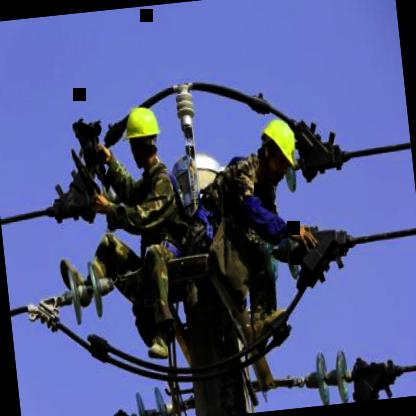helmet: (252, 113, 303, 185), (119, 98, 166, 168)
